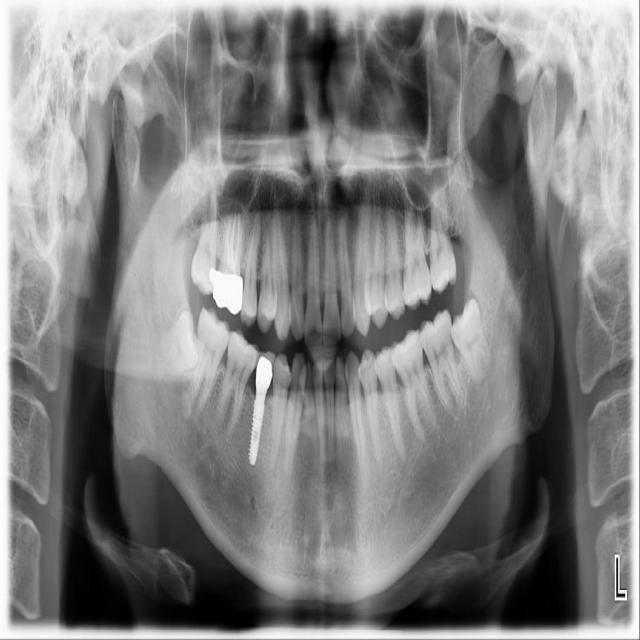52: (189, 244, 218, 296), (212, 269, 244, 315), (252, 349, 278, 393)
73: (216, 196, 248, 276), (582, 572, 589, 586)
BioHorizons Implant: (422, 178, 458, 296)
Biomet 3i Implant: (442, 295, 499, 388)
Blue Sky Bio Implant: (415, 307, 467, 418)
Caries: (189, 175, 219, 296)
Implant: (187, 306, 233, 415)
Keystone Dental Implant: (154, 309, 202, 377)
